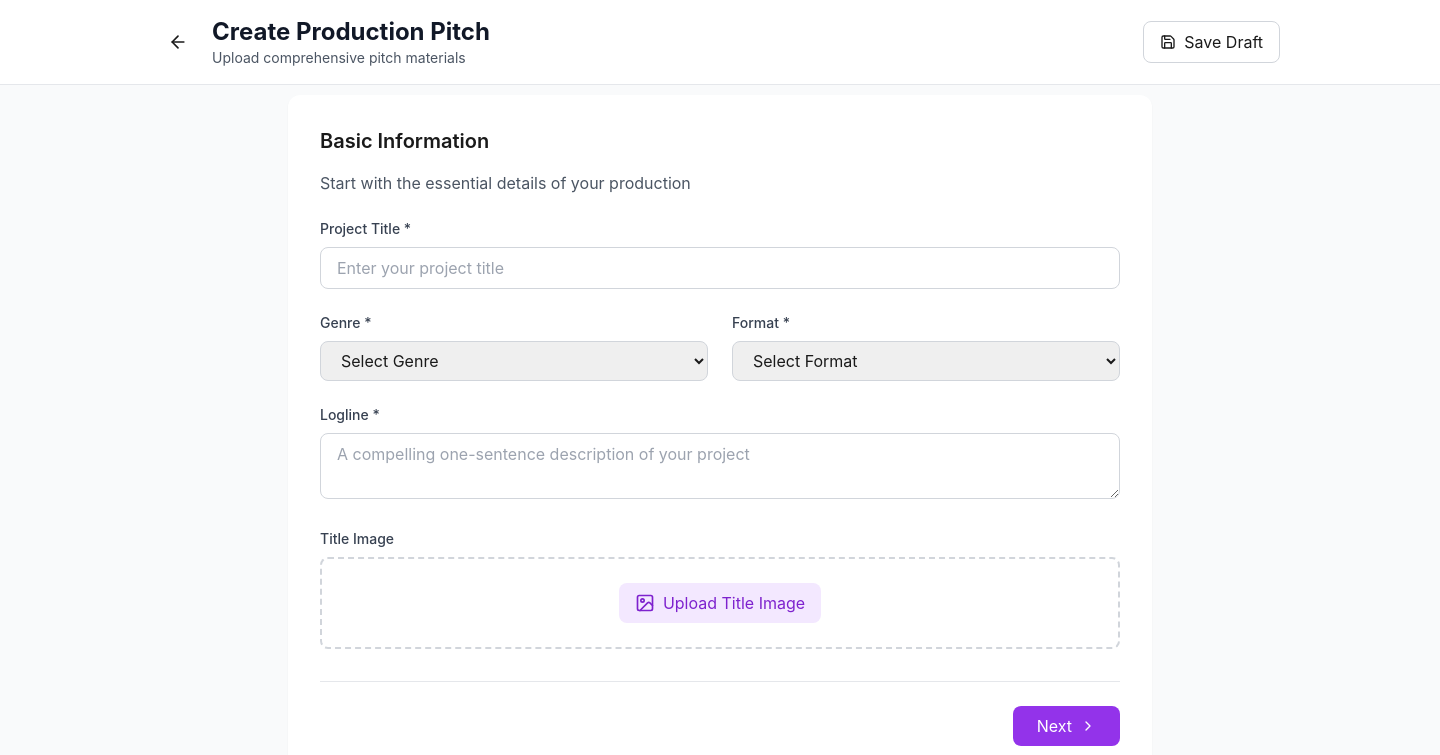
Test: ProductionPitchCreate › Step 1: Basic Information › clears title error when user types in title field
(page scrolled)
Click the button "Next".
click(1066, 726)  # box [1013,706,1120,746]
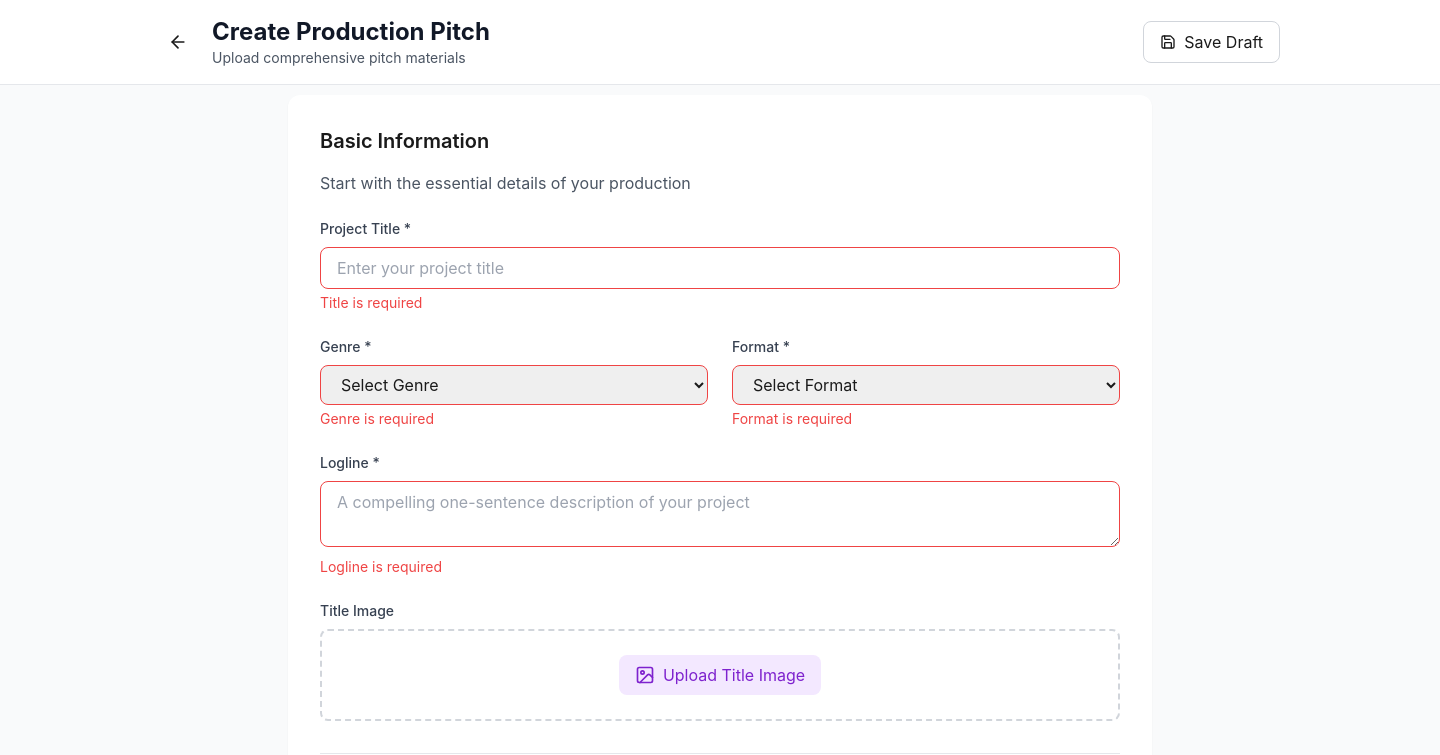
Expected: the text "Title is required" is shown, [320,294,422,311]
Type "My Film" into the field with placeholder "Enter your project title".
click(720, 268); type("My Film")  # box [320,247,1120,289]
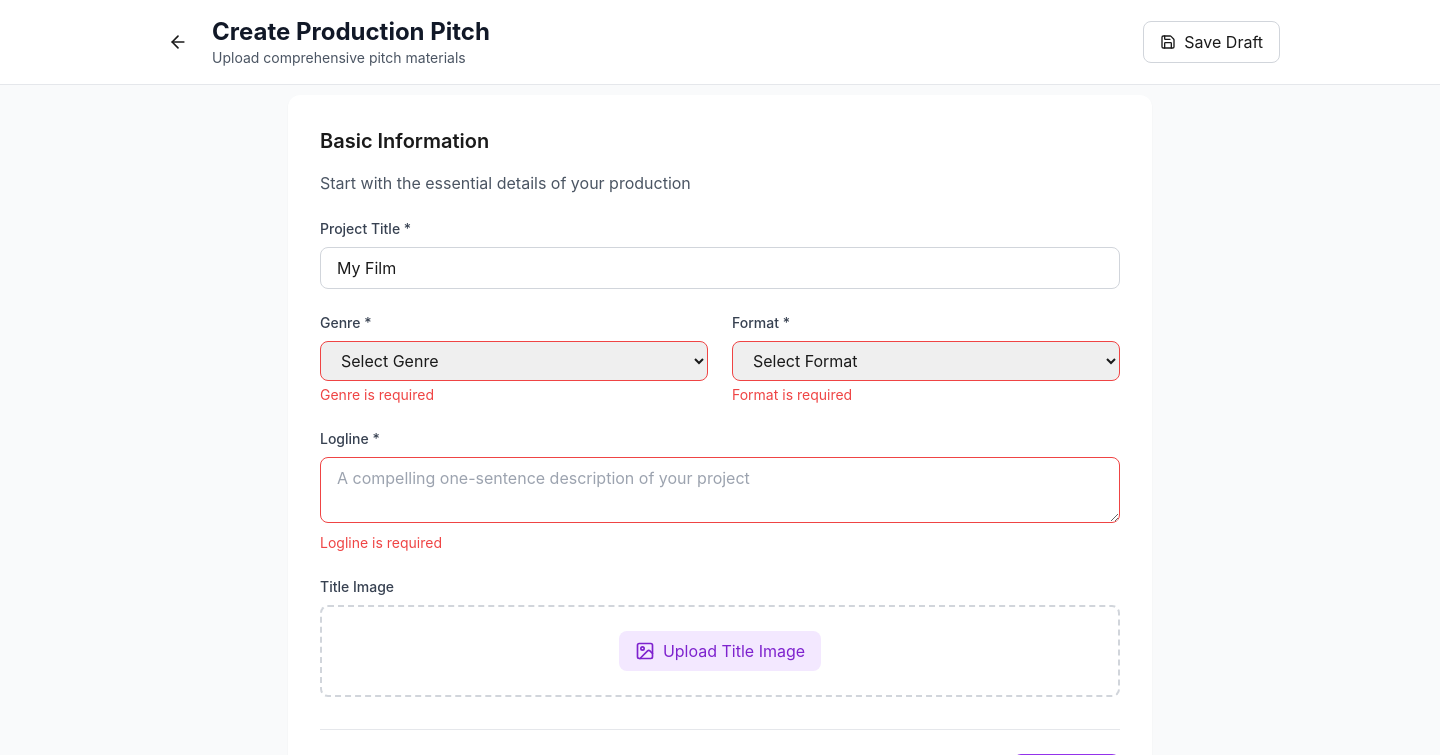
Expected: the text "Title is required" is gone
